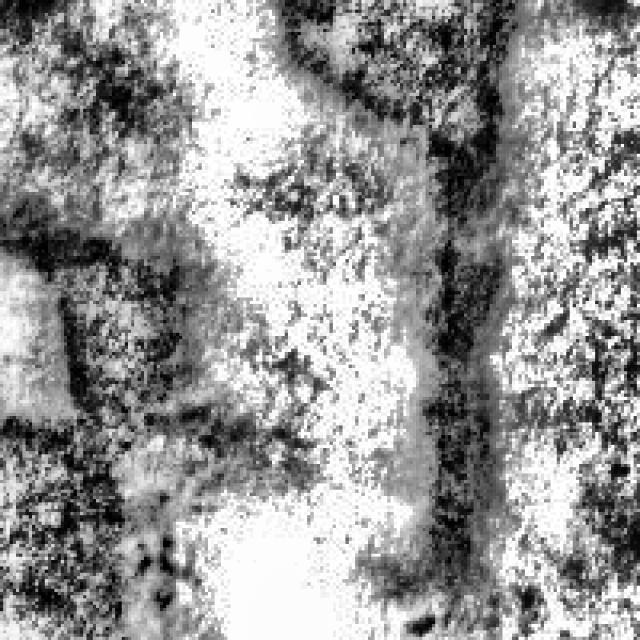Scratches: (0, 166, 237, 624), (374, 58, 509, 602), (272, 0, 506, 141)
